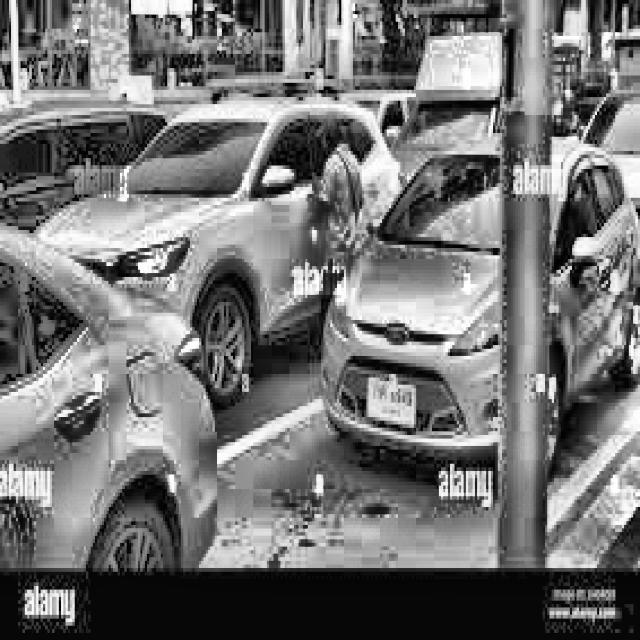license-plate: (364, 371, 419, 437)
